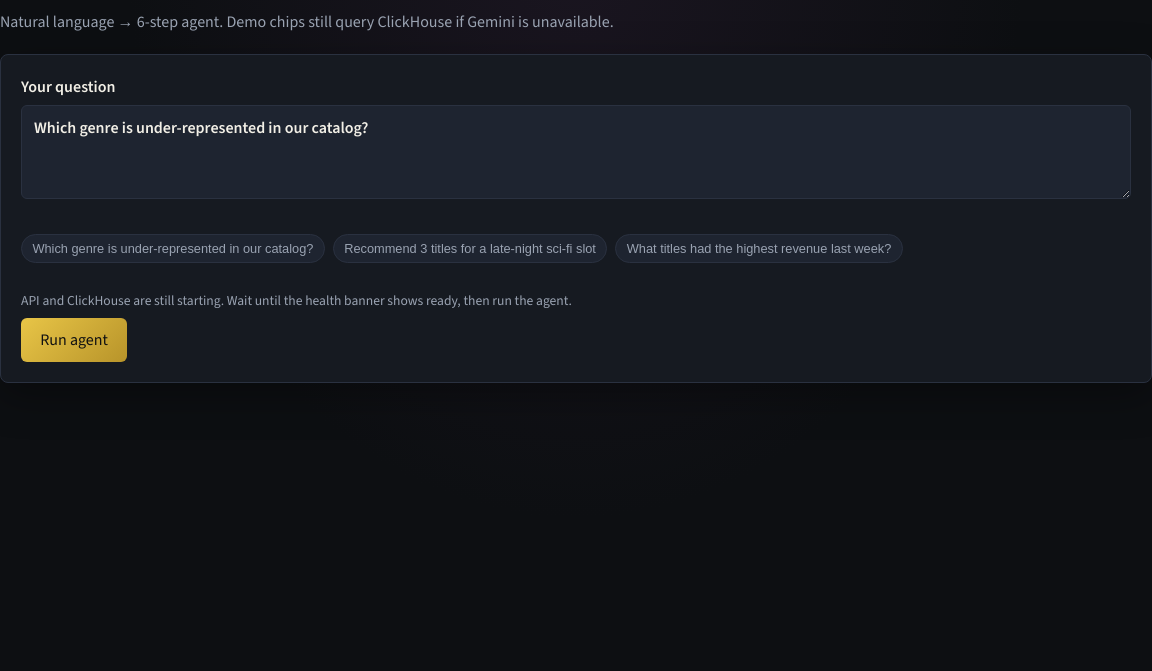
Test: pages › asks a question and renders grounded badge plus visible SQL first
Check: the element with class "ask-actions-sticky" is shown, box [21,291,572,362]
Replace the text in the text box named "Question for the catalog agent" with "Which genre is under-represented?" at (576, 152), box [21,105,1131,199]
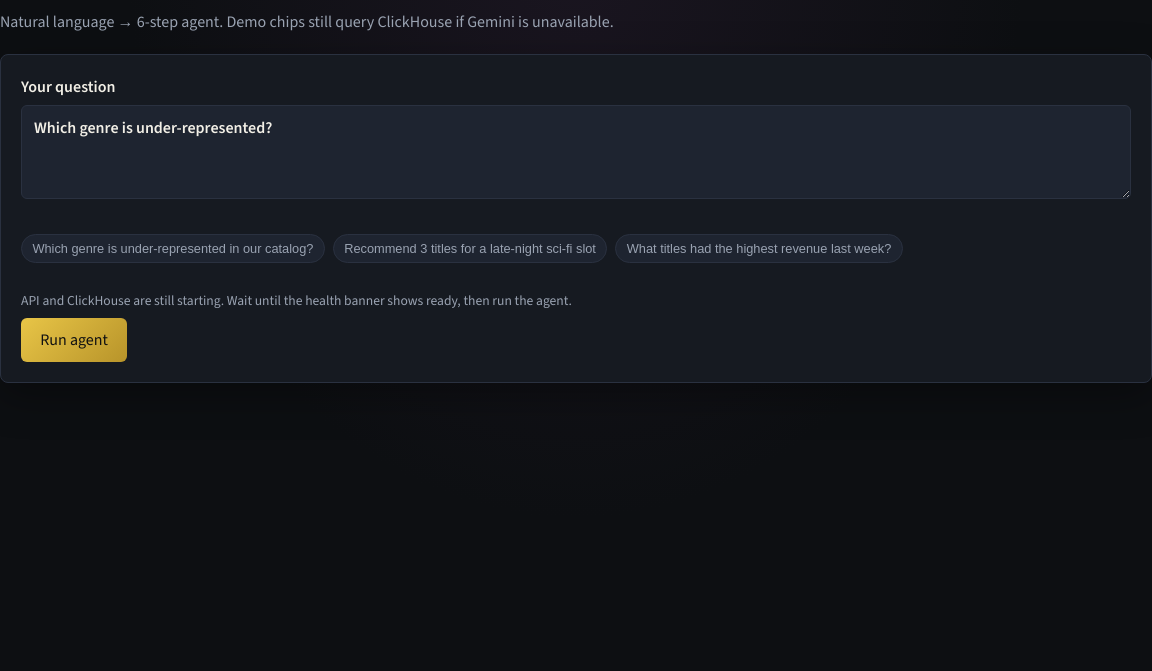
Click the button "Which genre is under-represented in our catalog?" at (173, 248), box [21,234,325,263]
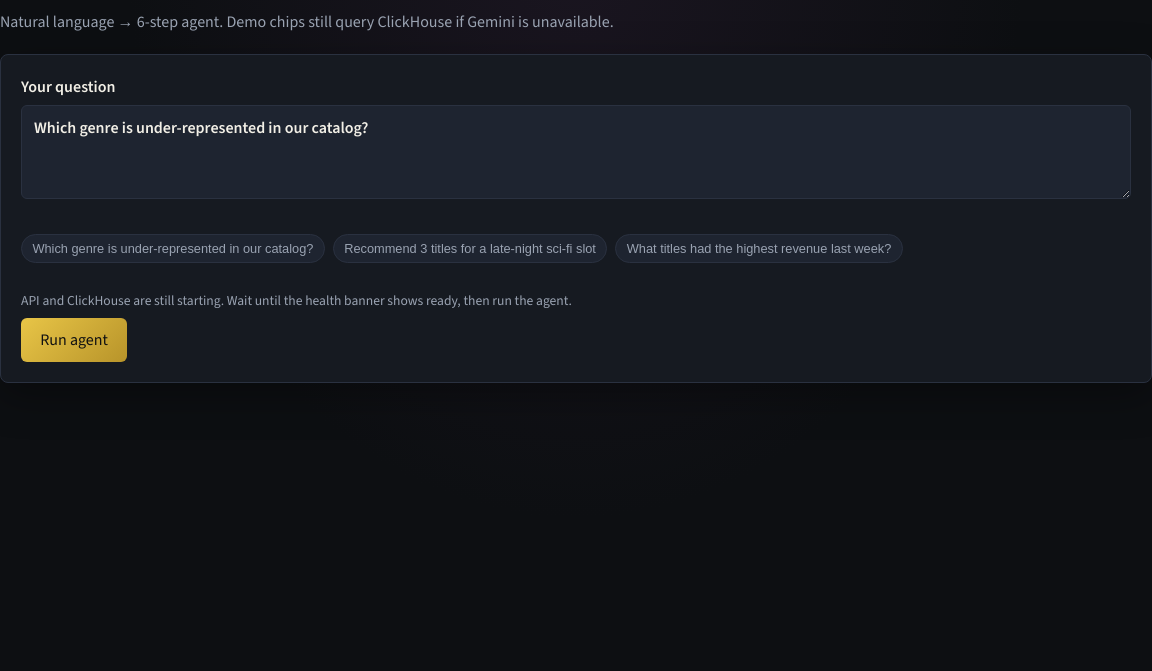
Submit the form named "Run agent", box [21,75,1131,362]
(page scrolled)
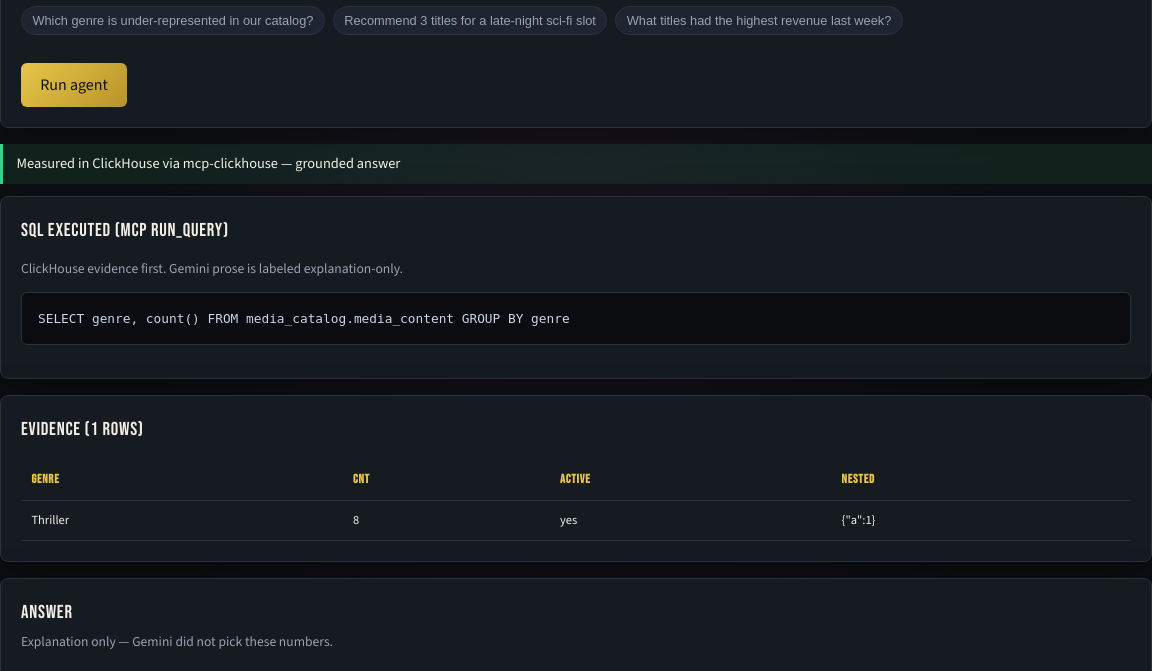
Check: the text "Measured in ClickHouse via mcp-clickhouse — grounded answer" is shown, box [0,144,1151,184]
Check: the heading "SQL executed (MCP run_query)" is shown, box [21,218,229,242]
Check: the text "Explanation only — Gemini did not pick these numbers." is shown, box [21,632,333,650]
